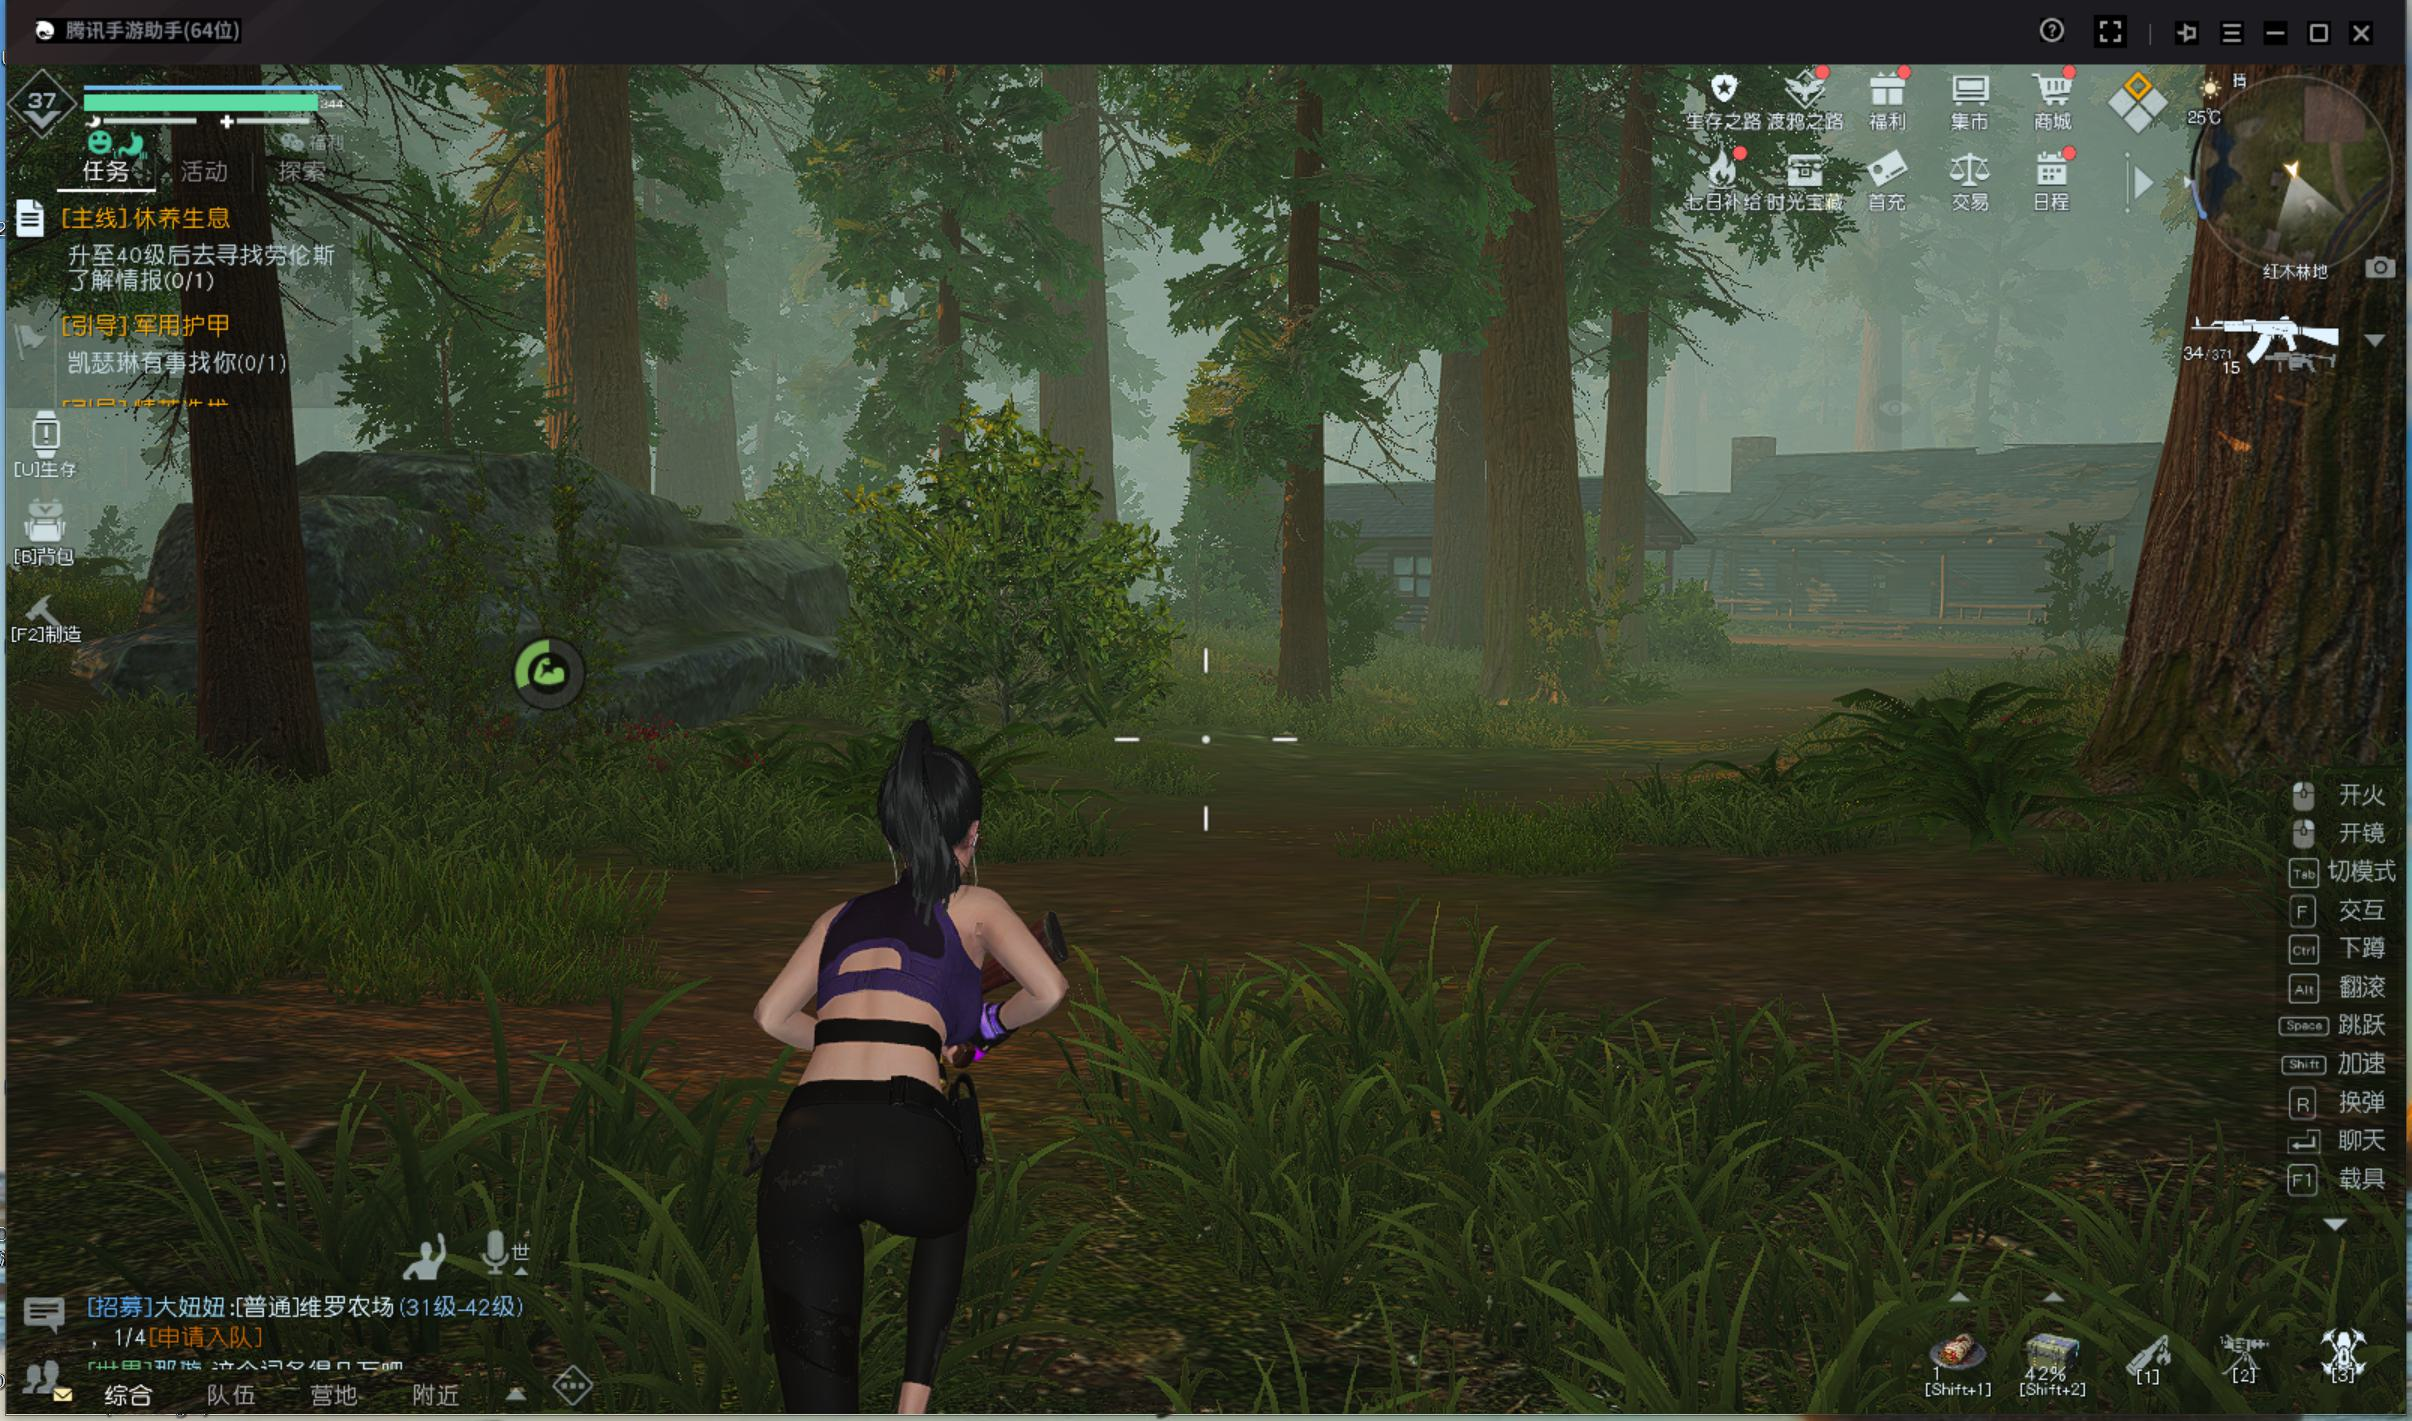tree: (154, 159, 320, 861), (1466, 123, 1593, 744), (519, 90, 661, 499), (1264, 161, 1331, 731)
